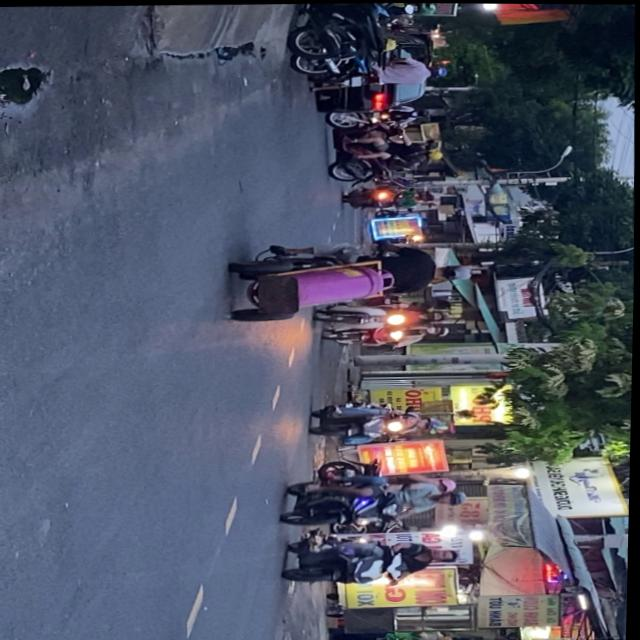helmet: (439, 489, 471, 506), (423, 417, 449, 431)
licenseplate: (230, 232, 480, 313), (280, 473, 472, 529), (281, 531, 465, 588), (308, 399, 450, 444)
motorcyclist: (433, 261, 473, 281), (433, 546, 463, 563)
